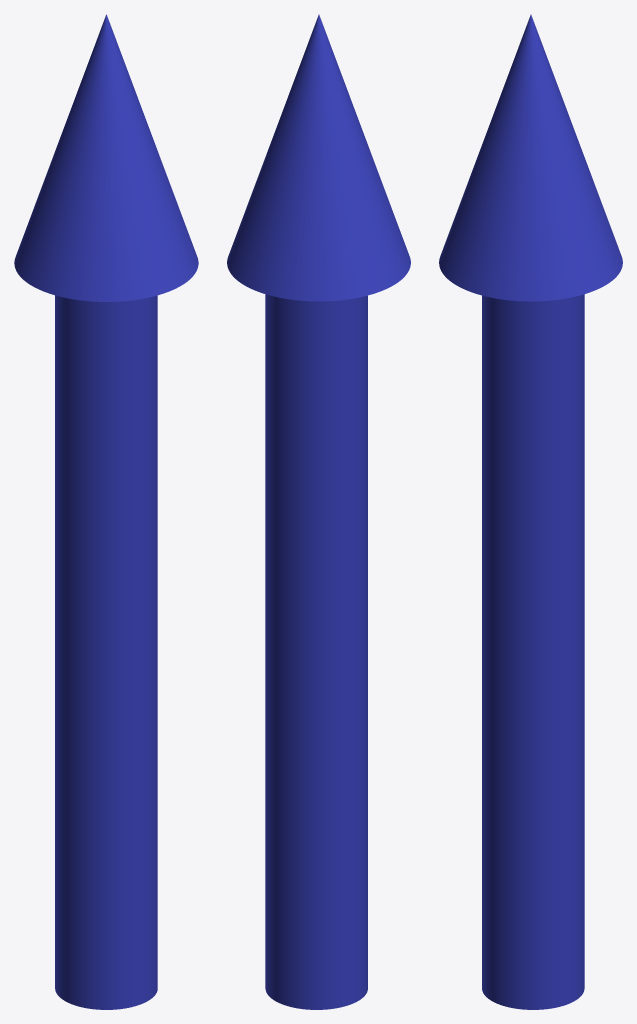
The model's file is arrow.fbx.
3 views of the same model, side by side, from view 1: azimuth 30°, elevation 25°; view 2: azimuth 150°, elevation 25°; view 3: azimuth 270°, elevation 25° (orthographic).
Parts seen in each view (by area): view 1: node_id41 (×2); view 2: node_id41 (×2); view 3: node_id41 (×2).
Part boxes in pixels (box(x1,y1,x2,y2)): node_id41 (×2): box(14, 14, 198, 1009); node_id41 (×2): box(227, 14, 410, 1009); node_id41 (×2): box(439, 14, 622, 1009).
Size of the model in its own units: 0.0437 by 0.2556 by 0.0437.
